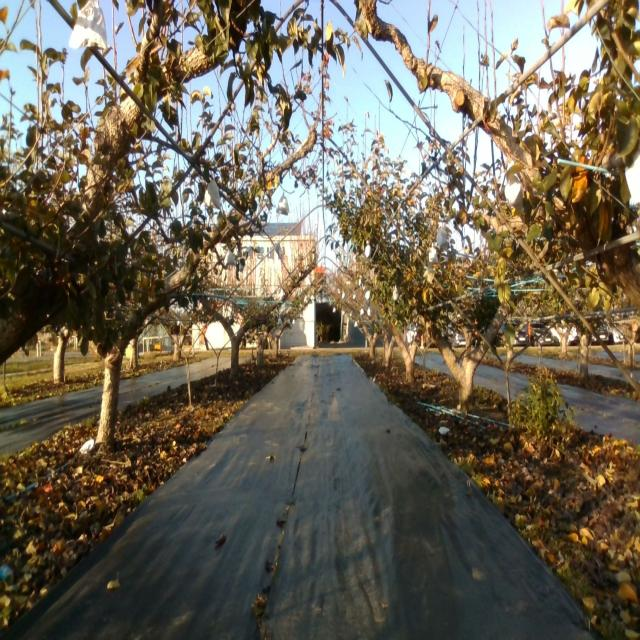pearbags: (68, 0, 109, 54), (625, 151, 640, 206), (504, 177, 524, 209), (202, 179, 221, 211), (276, 192, 290, 216), (436, 227, 448, 248)
